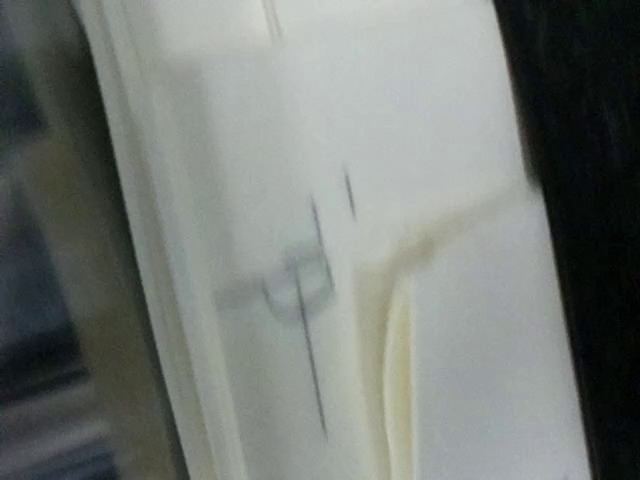not_sure: (213, 189, 353, 322)
